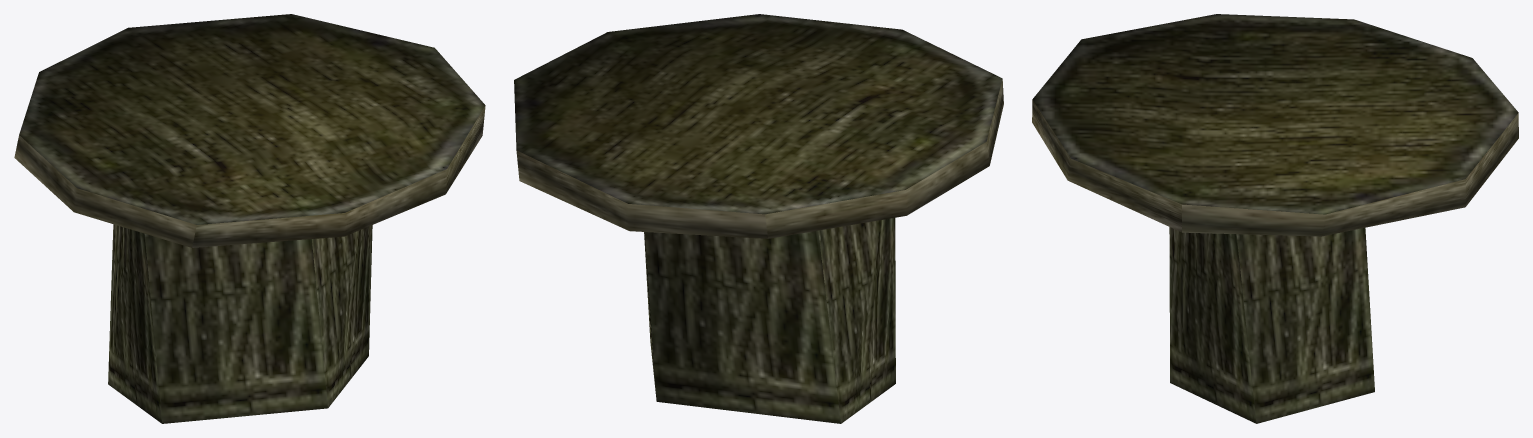
File: PC_LOB_TABLE2.glb
3 renders of one model, left to right at view 1: azimuth 30°, elevation 25°; view 2: azimuth 150°, elevation 25°; view 3: azimuth 270°, elevation 25°, orthographic.
Parts seen in each view (by area): view 1: Mesh; view 2: Mesh; view 3: Mesh.
Boxes of the visible parts, x1,y1,x2,y2 form: Mesh: (14, 14, 485, 423); Mesh: (514, 14, 1003, 423); Mesh: (1032, 14, 1518, 423).
Bounding box in the file's own units: 1.39 × 0.83 × 1.42.
Materials: 1 (1 with a texture image).
